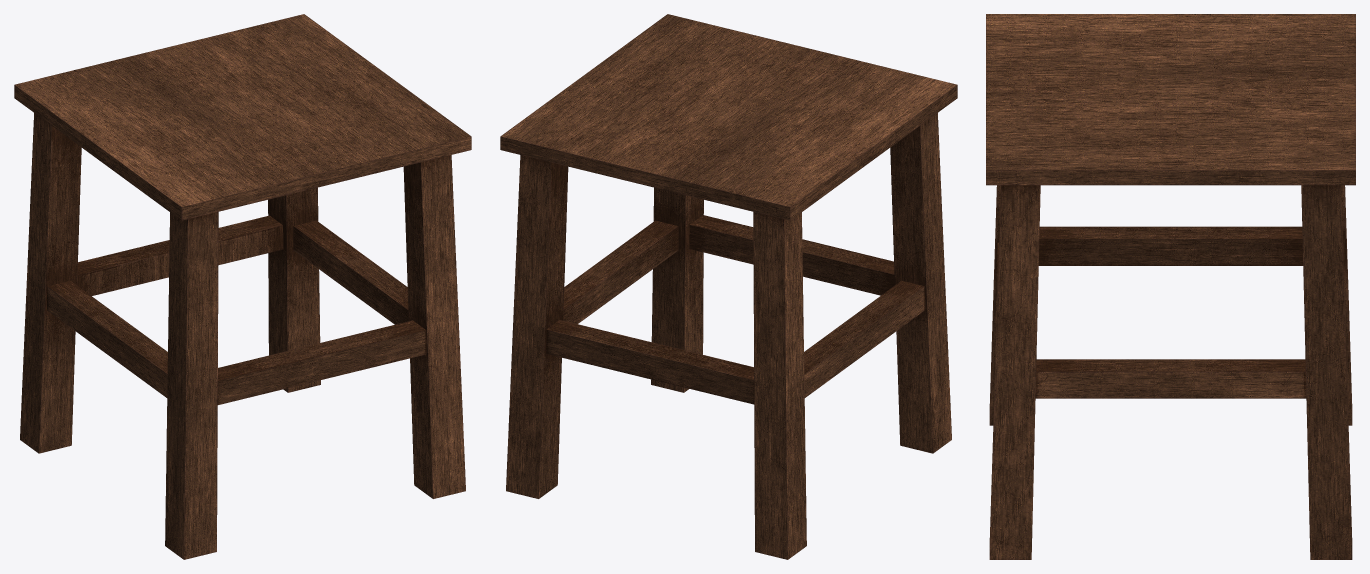
The model's file is chair_done.fbx.
3 renders of one model, left to right at view 1: azimuth 30°, elevation 25°; view 2: azimuth 150°, elevation 25°; view 3: azimuth 270°, elevation 25°, orthographic. The views are drawn at different scales.
Visible parts, largest first — view 1: chair; view 2: chair; view 3: chair.
Part boxes in pixels (x1,y1,x2,y2): chair: [14, 14, 471, 559]; chair: [500, 14, 957, 559]; chair: [986, 14, 1355, 559].
Size of the model in its own units: 51.78 by 60.56 by 51.78.
